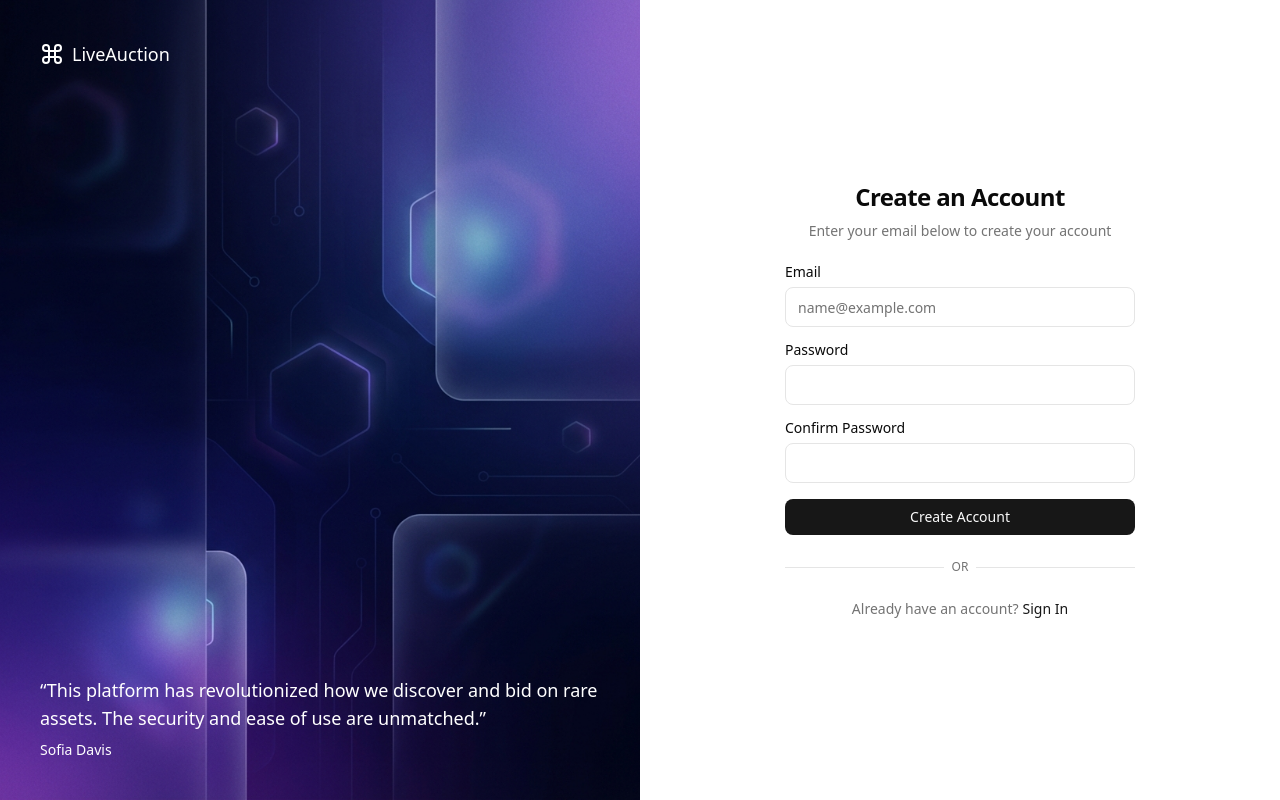
Test: Auth Pages › RegisterPage › validates password mismatch
Step 1. Type "test@example.com" into the field labelled "Email" → (960,307), box [785,287,1135,327]
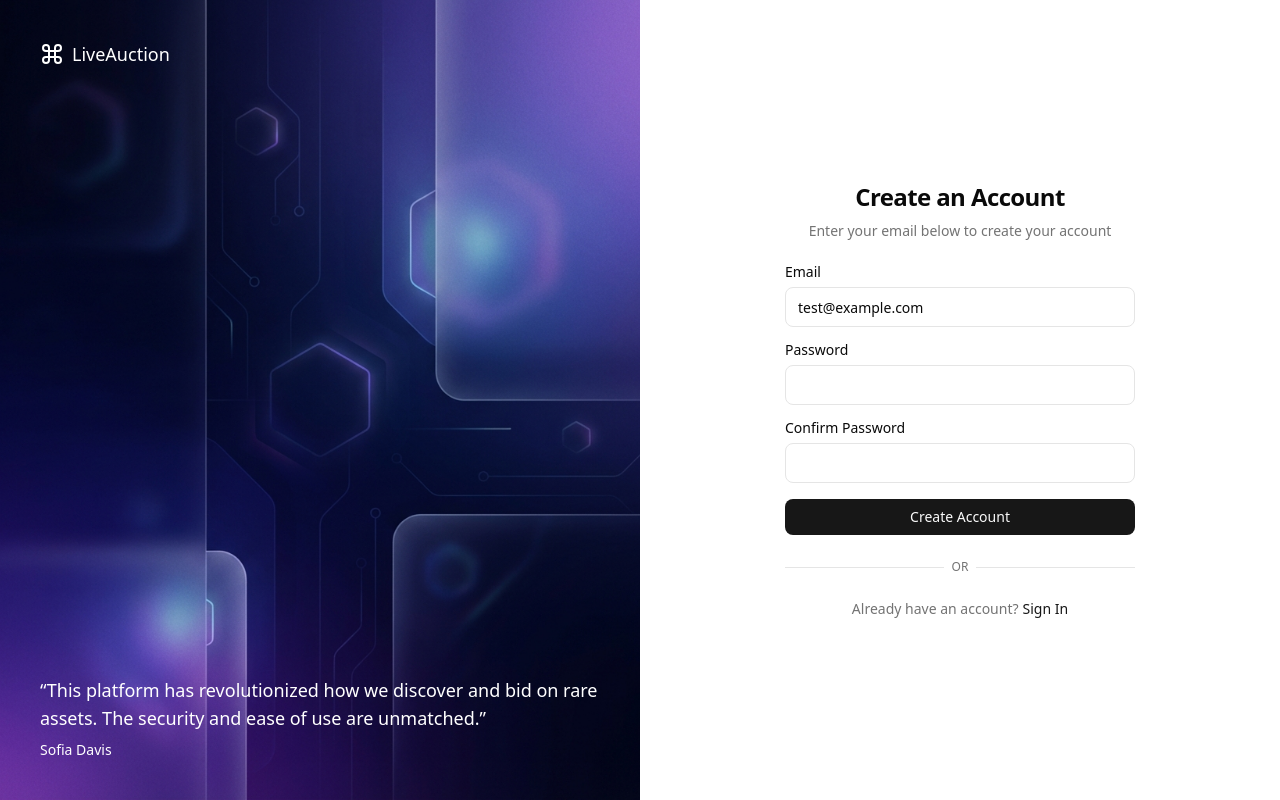
Step 2. Type "password123" into the password field labelled "Password" → (960,385), box [785,365,1135,405]
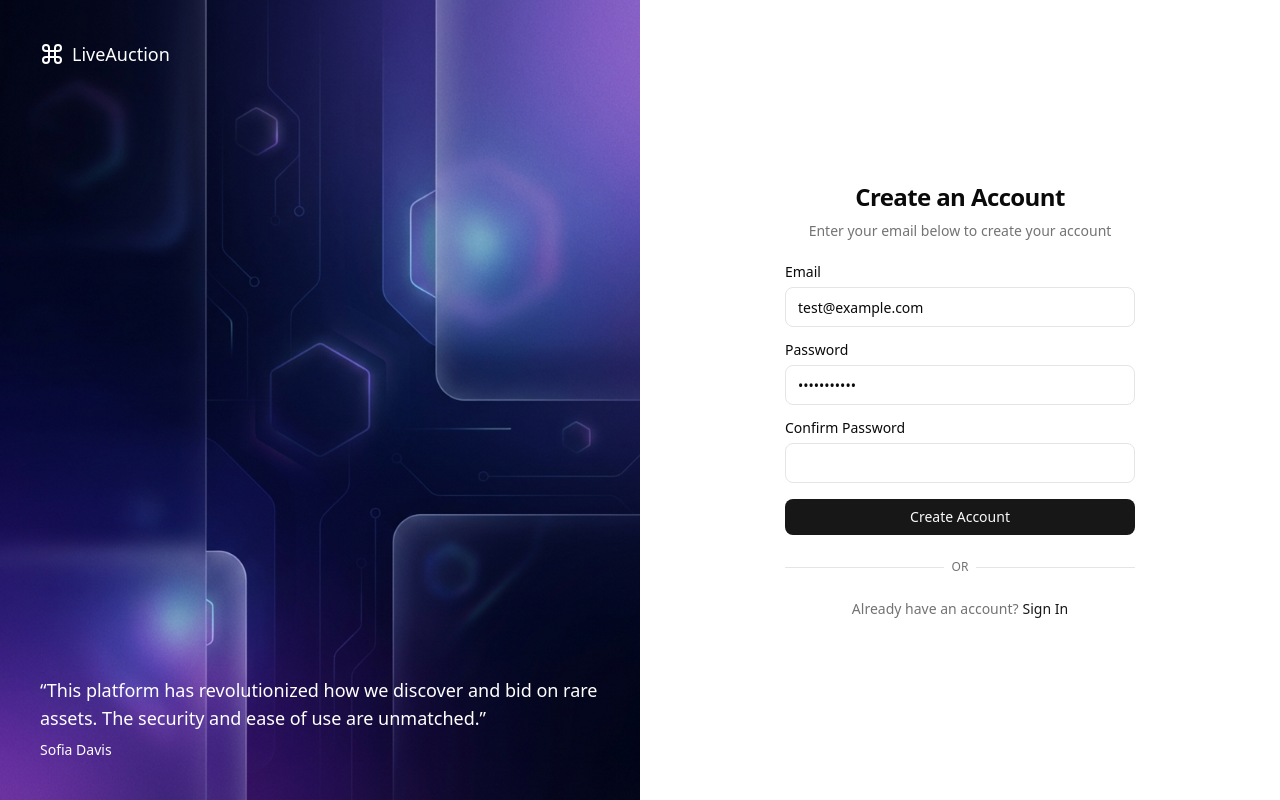
Step 3. Type "mismatch" into the password field labelled "Confirm Password" → (960,463), box [785,443,1135,483]
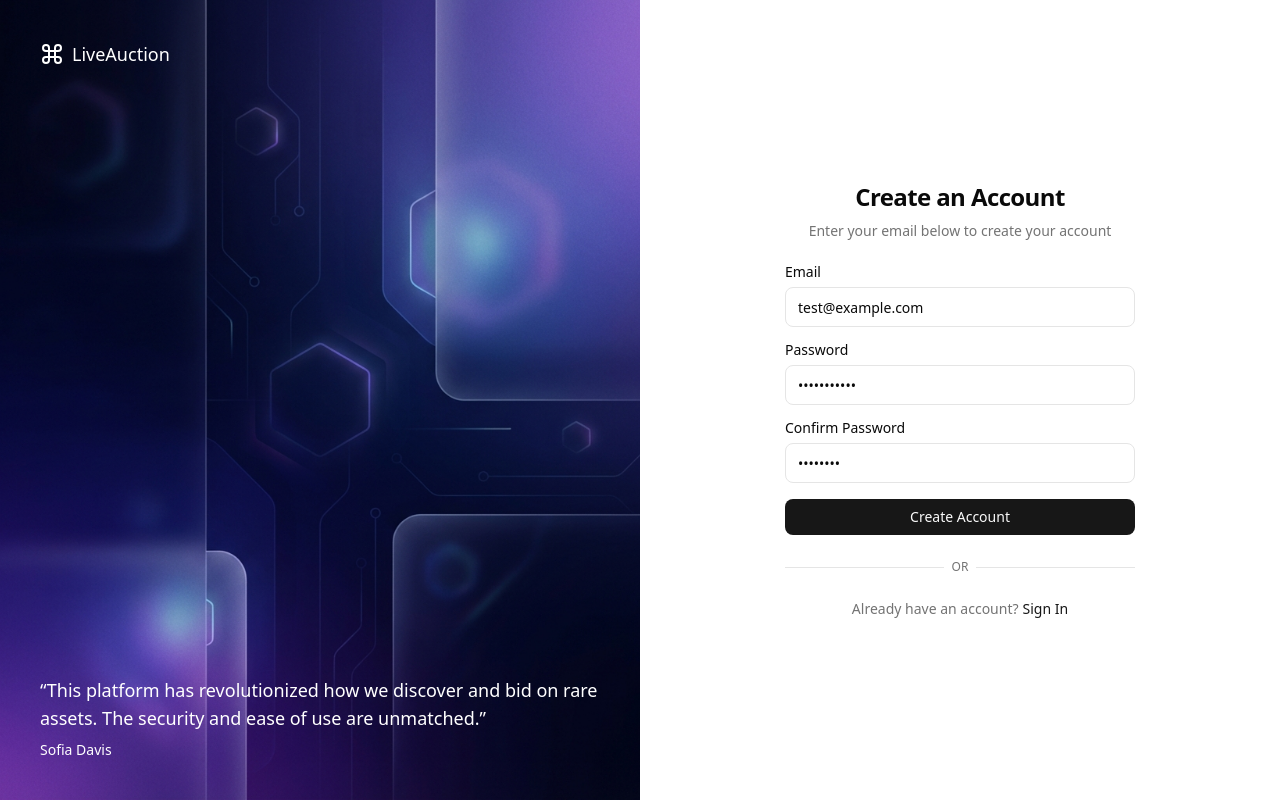
Step 4. Click the button "Create Account" → (960,517), box [785,499,1135,535]
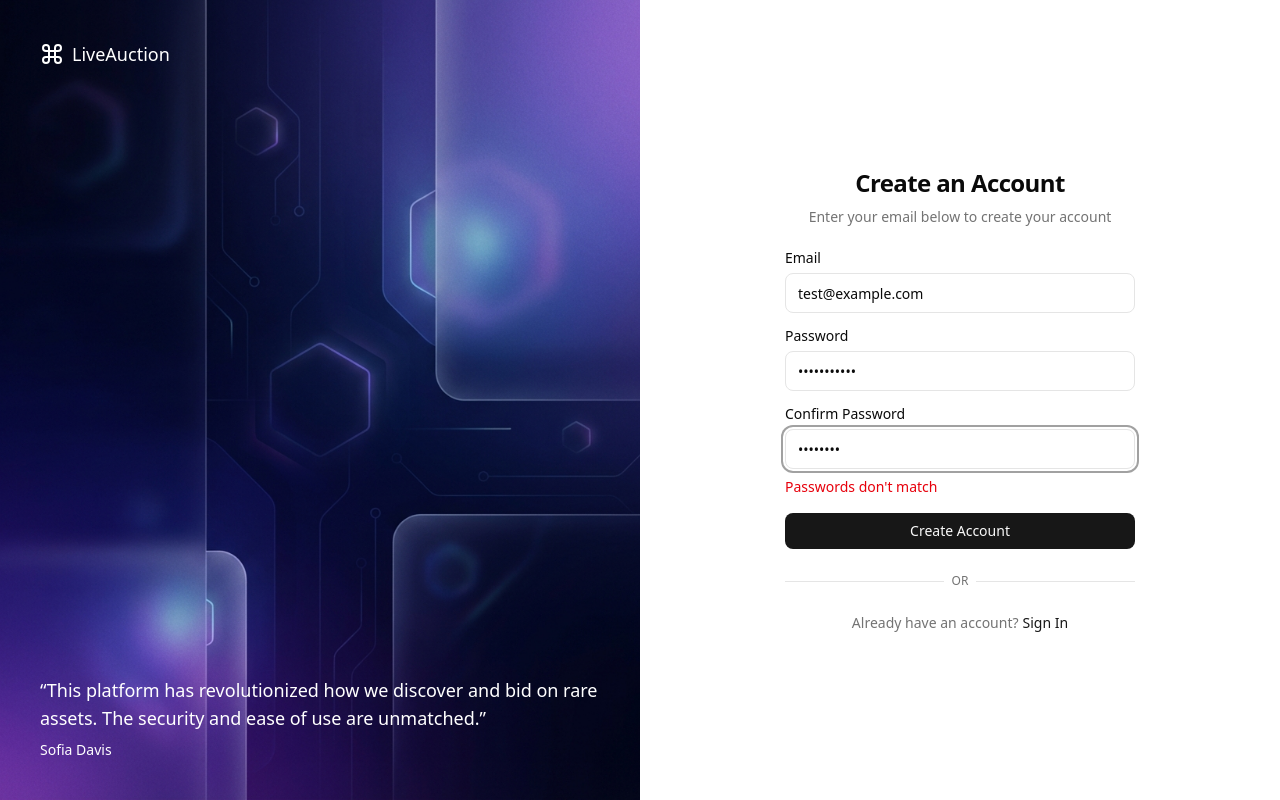
Check: the text "Passwords don't match" is shown, box [785,477,938,496]
